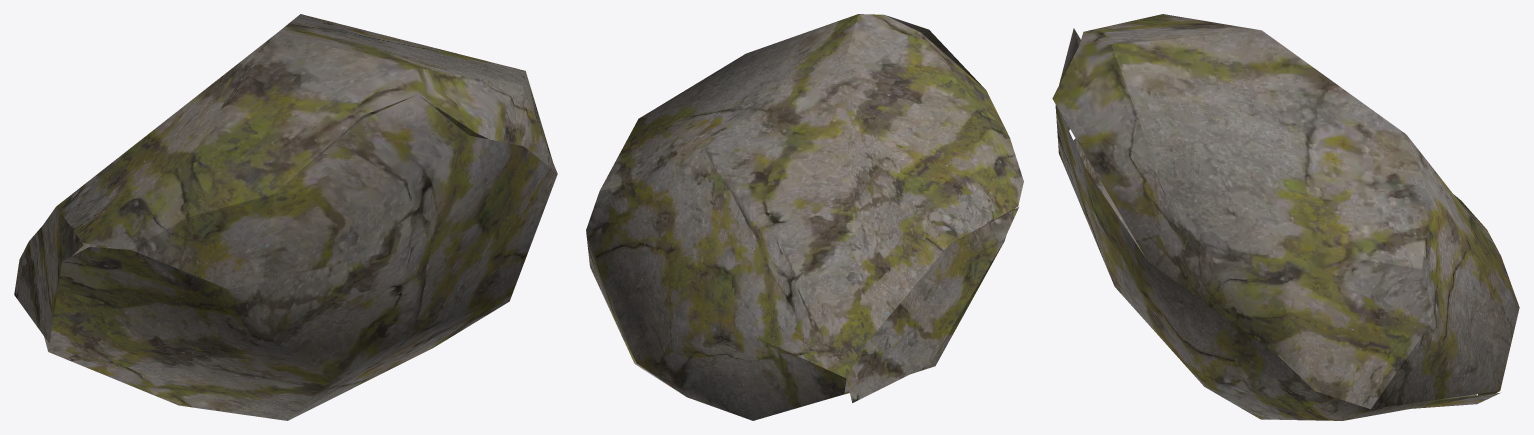
File: rock_003.glb
3 views of the same model, side by side, from view 1: azimuth 30°, elevation 25°; view 2: azimuth 150°, elevation 25°; view 3: azimuth 270°, elevation 25° (orthographic). The views are drawn at different scales.
Visible parts, largest first — view 1: rock.003; view 2: rock.003; view 3: rock.003.
Part boxes in pixels (x1,y1,x2,y2): rock.003: [14, 14, 557, 420]; rock.003: [586, 14, 1023, 420]; rock.003: [1052, 14, 1519, 420].
Bounding box in the file's own units: 0.7976 × 0.5981 × 0.6959.
Materials: 1 (1 with a texture image).
